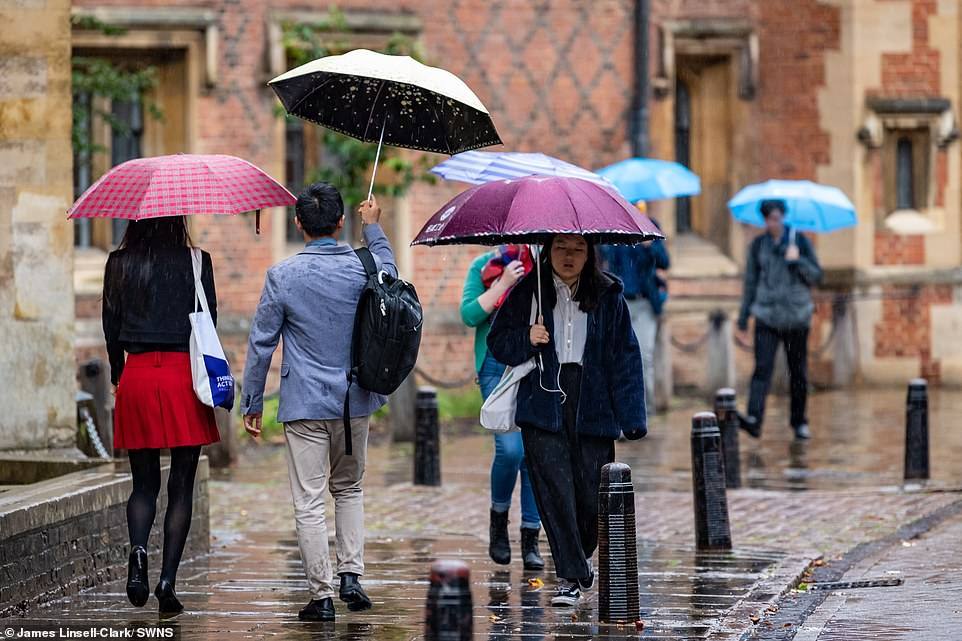person: (241, 183, 386, 621), (504, 235, 639, 604), (100, 222, 215, 619), (738, 201, 820, 440)
